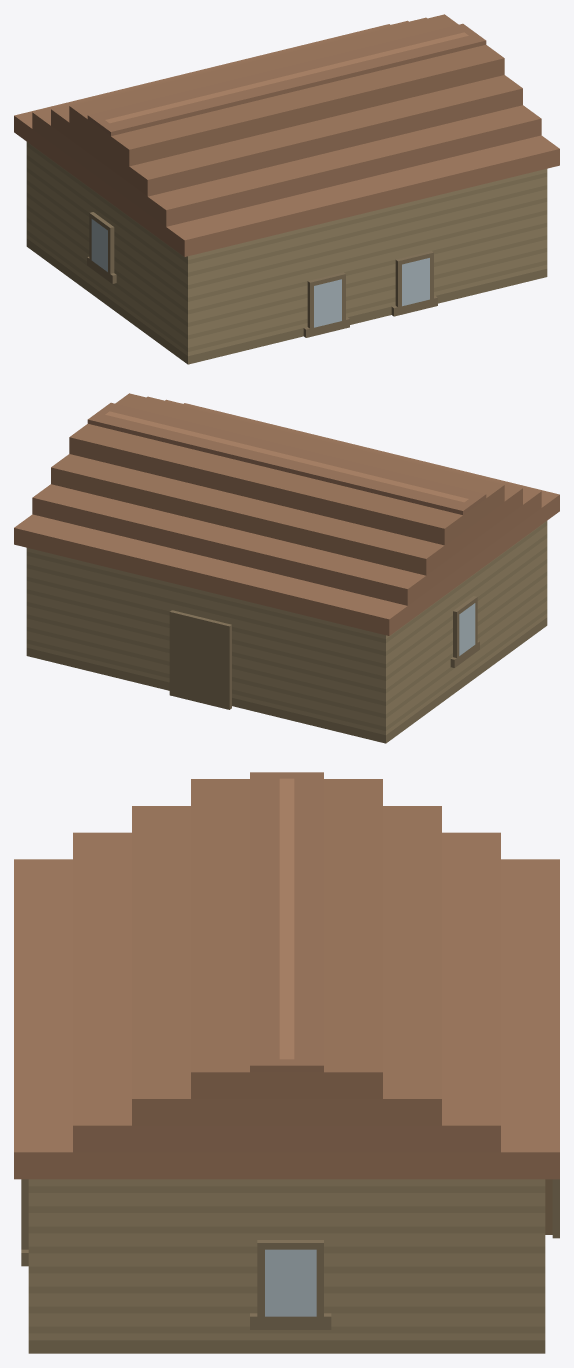
Rendered from tienda_02.glb.
3 views of the same model, one above another, from view 1: azimuth 30°, elevation 25°; view 2: azimuth 150°, elevation 25°; view 3: azimuth 270°, elevation 25° (orthographic). The views are drawn at different scales.
Visible parts, largest first — view 1: tienda_02; view 2: tienda_02; view 3: tienda_02.
Boxes of the visible parts, x1,y1,x2,y2 form: tienda_02: (14,14,559,364); tienda_02: (14,393,559,743); tienda_02: (14,772,559,1353).
Bounding box in the file's own units: 9.4 × 4.4 × 7.4.
